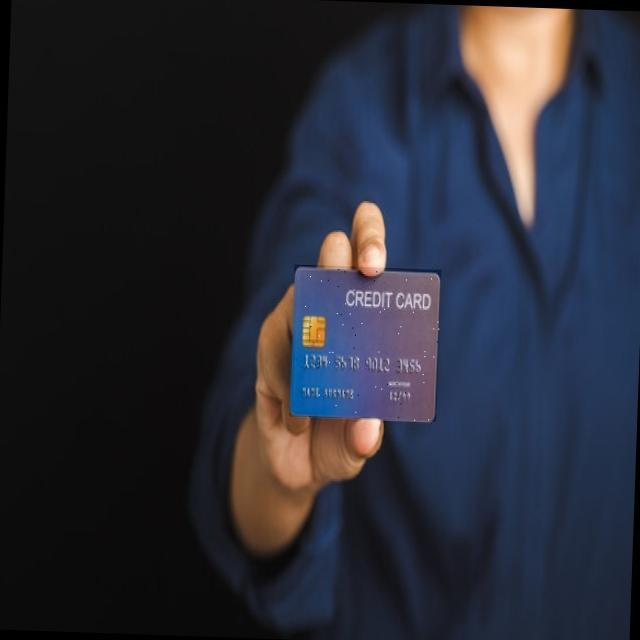payment_card: (287, 264, 441, 423)
